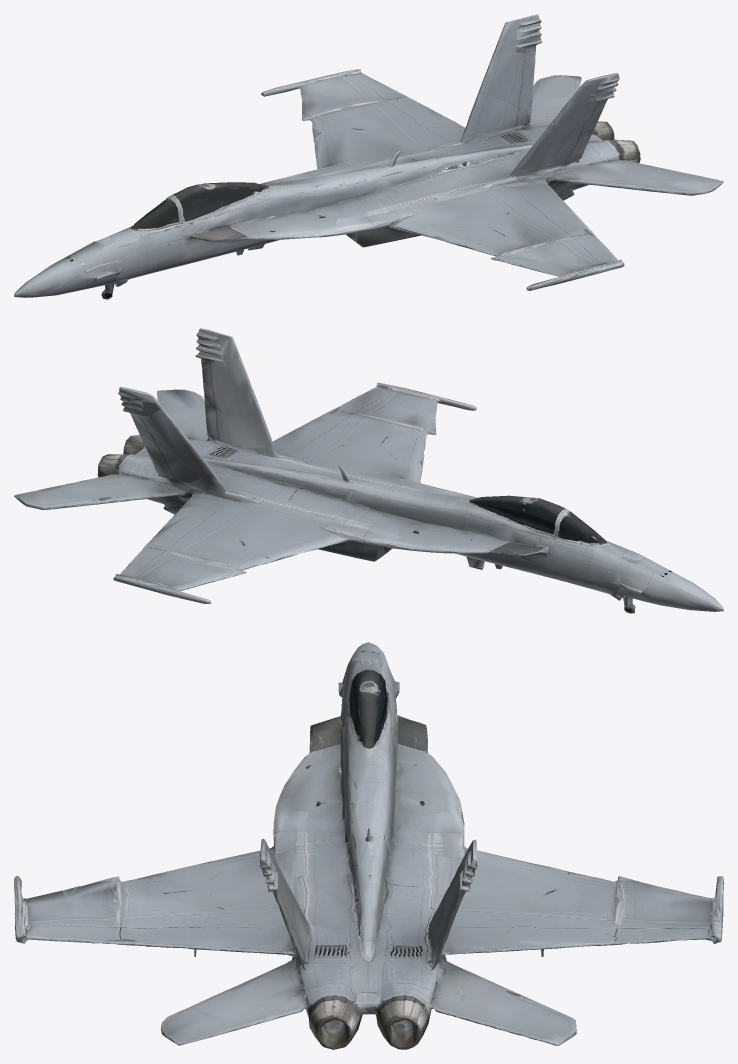
File: fa-18e-super-hornet-meshy6-web-squad-v1.glb
3 renders of one model, top to bottom at view 1: azimuth 30°, elevation 25°; view 2: azimuth 150°, elevation 25°; view 3: azimuth 270°, elevation 25°, orthographic. The views are drawn at different scales.
Size of the model in its own units: 1.9 by 0.4155 by 1.38.
Materials: 1 (1 with a texture image).
